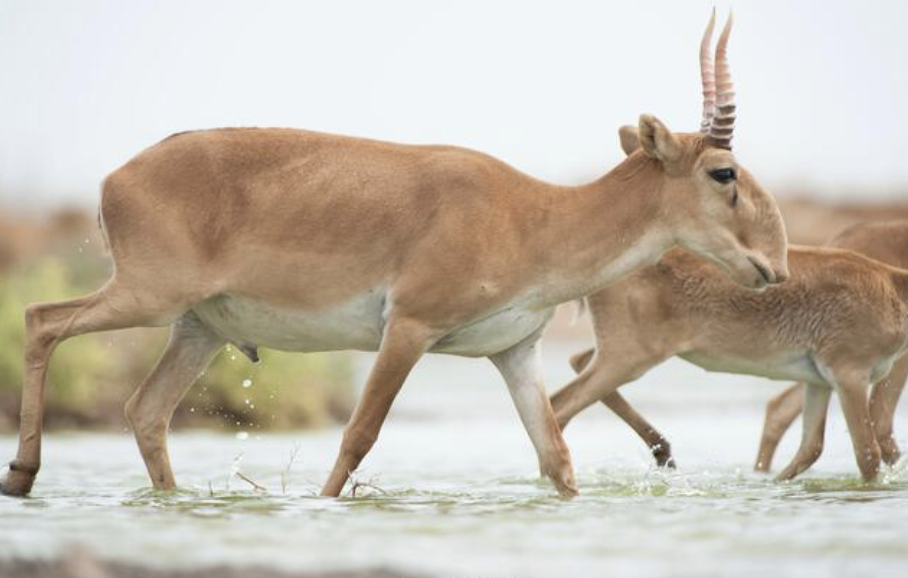saiga: (18, 21, 790, 492)
